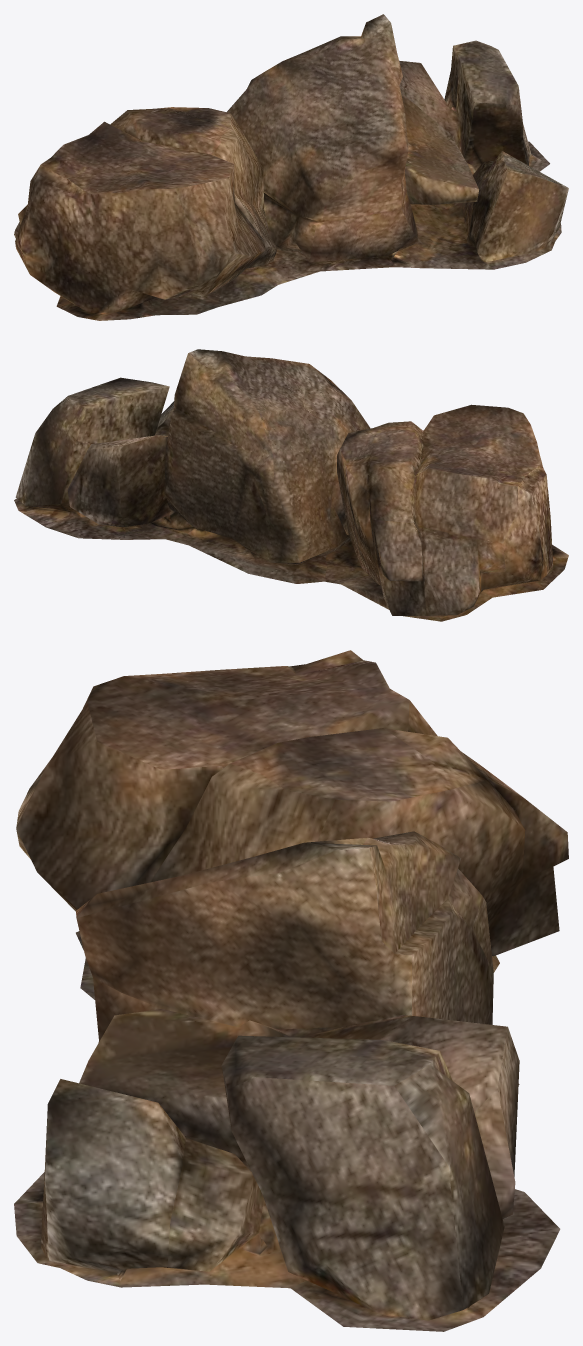
The model's file is namaqualand_boulder_02.glb.
The picture shows the model from 3 angles, top to bottom: view 1: azimuth 30°, elevation 25°; view 2: azimuth 150°, elevation 25°; view 3: azimuth 270°, elevation 25°; orthographic projection. The views are drawn at different scales.
Parts seen in each view (by area): view 1: boulder_02; view 2: boulder_02; view 3: boulder_02.
Part boxes in pixels (bbox=[...]): boulder_02: bbox=[14, 14, 568, 320]; boulder_02: bbox=[14, 349, 568, 621]; boulder_02: bbox=[14, 650, 568, 1331].
Bounding box in the file's own units: 2.51 × 0.8562 × 1.23.
1 material, 1 textured.
